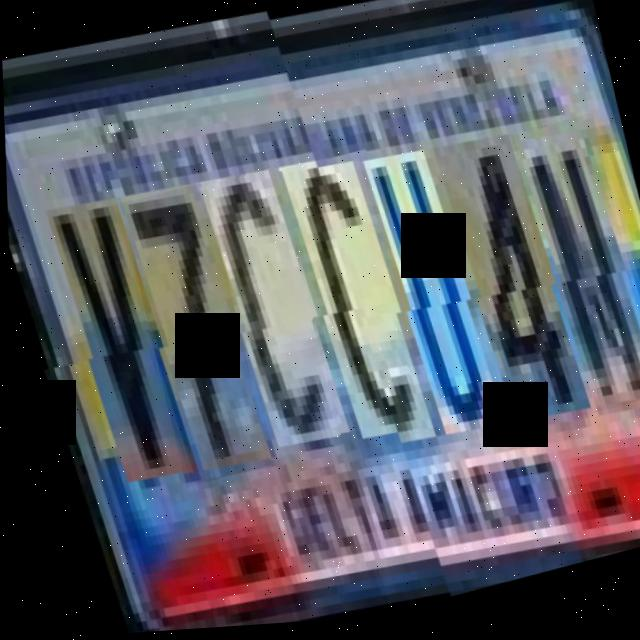4: (426, 122, 583, 434)
7: (118, 181, 270, 493)
C: (278, 151, 429, 463), (197, 166, 347, 468)
N: (509, 118, 640, 428)
U: (357, 139, 500, 447)
V: (43, 195, 195, 507)
